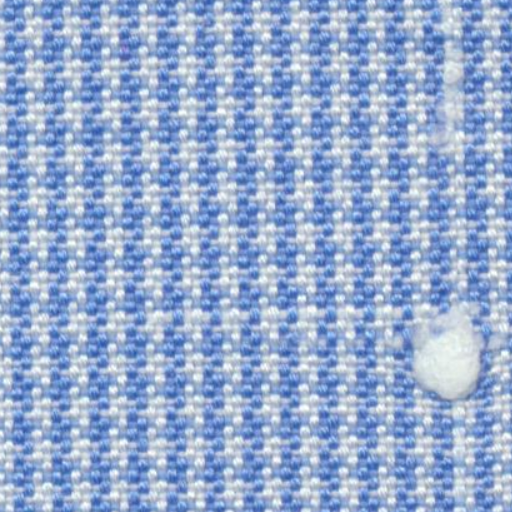MianQiu: (389, 292, 496, 410)
